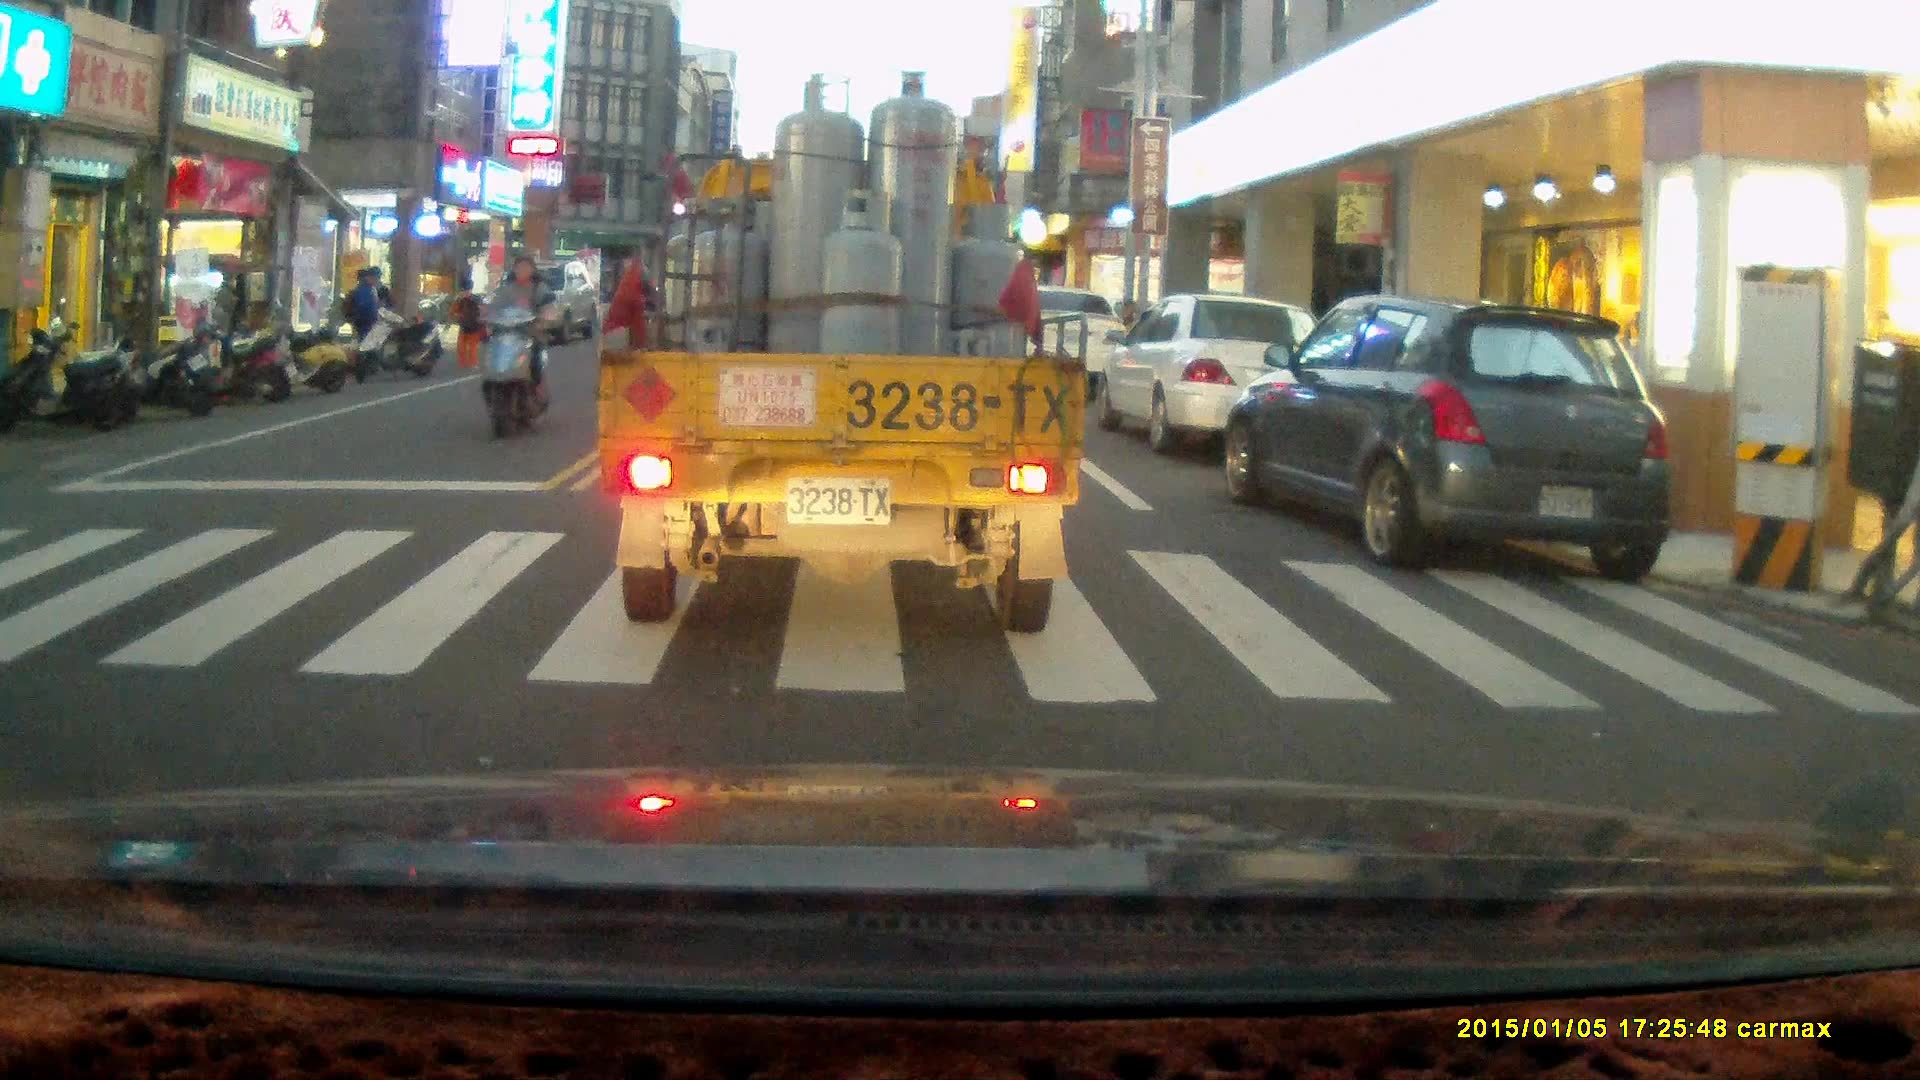pedestrian: (444, 274, 490, 370), (343, 269, 381, 379), (210, 268, 242, 370)
rider: (473, 254, 556, 441)
vehicle: (595, 69, 1093, 634), (1222, 293, 1678, 578), (1100, 303, 1324, 464), (987, 295, 1144, 425), (482, 267, 596, 357)
